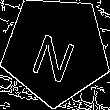N_N: (29, 19, 83, 81)
